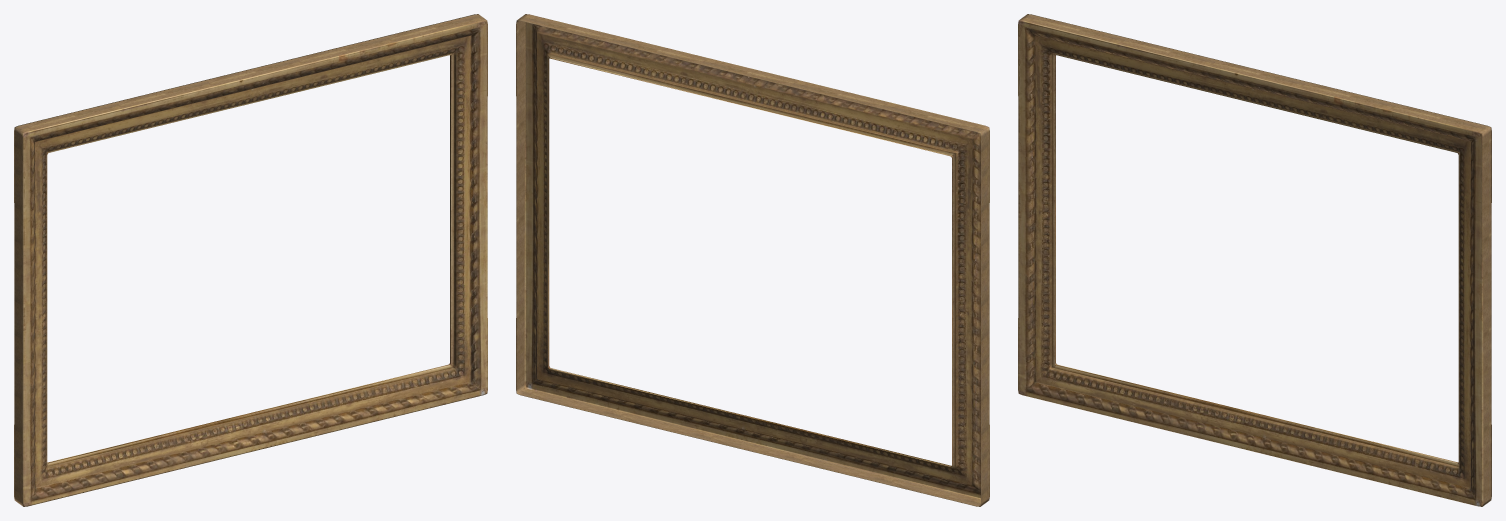
File: fancy_picture_frame_01.glb
3 views of the same model, side by side, from view 1: azimuth 30°, elevation 25°; view 2: azimuth 150°, elevation 25°; view 3: azimuth 330°, elevation 25° (orthographic).
Parts seen in each view (by area): view 1: fancy_picture_frame_01; view 2: fancy_picture_frame_01; view 3: fancy_picture_frame_01.
Part boxes in pixels (x1,y1,x2,y2): fancy_picture_frame_01: [14, 14, 487, 506]; fancy_picture_frame_01: [516, 14, 989, 506]; fancy_picture_frame_01: [1018, 14, 1491, 506].
Bounding box in the file's own units: 0.603 × 0.4641 × 0.02.
1 material, 1 textured.
